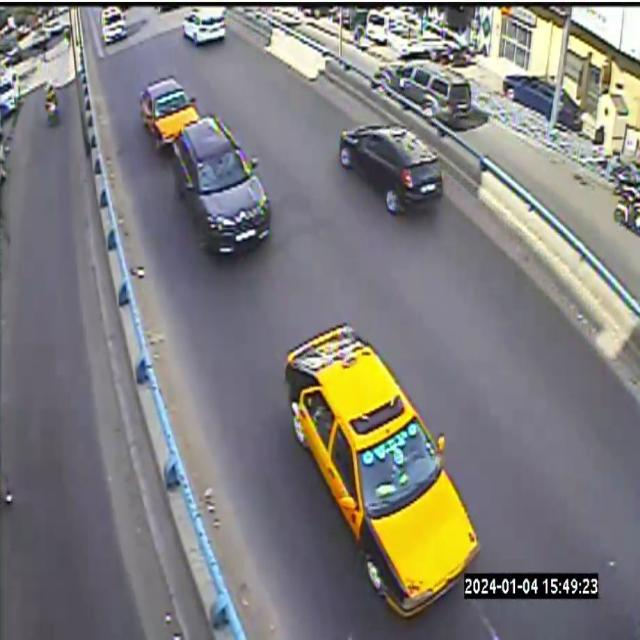car: (285, 324, 479, 615), (173, 118, 270, 253), (339, 125, 443, 215), (141, 77, 199, 148), (183, 6, 225, 45), (100, 6, 127, 44)
